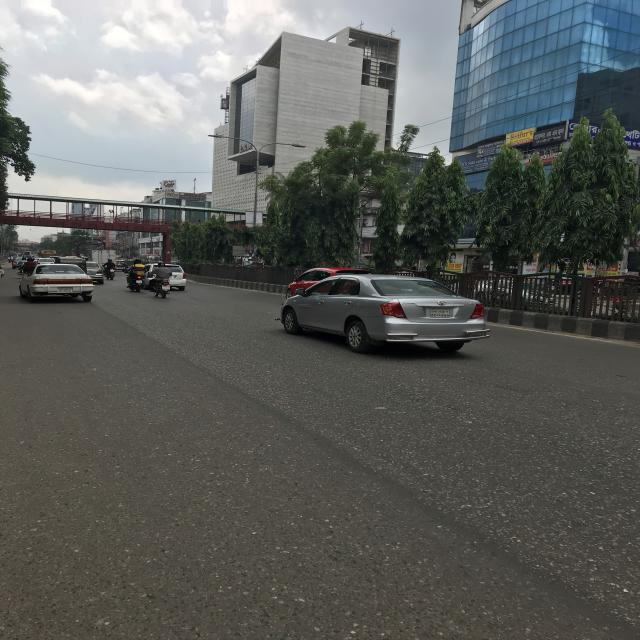maroon: (116, 260, 129, 272)
red: (286, 266, 373, 296)
silver: (282, 276, 488, 357), (86, 261, 104, 284)
white: (20, 262, 92, 304), (143, 262, 187, 294)
